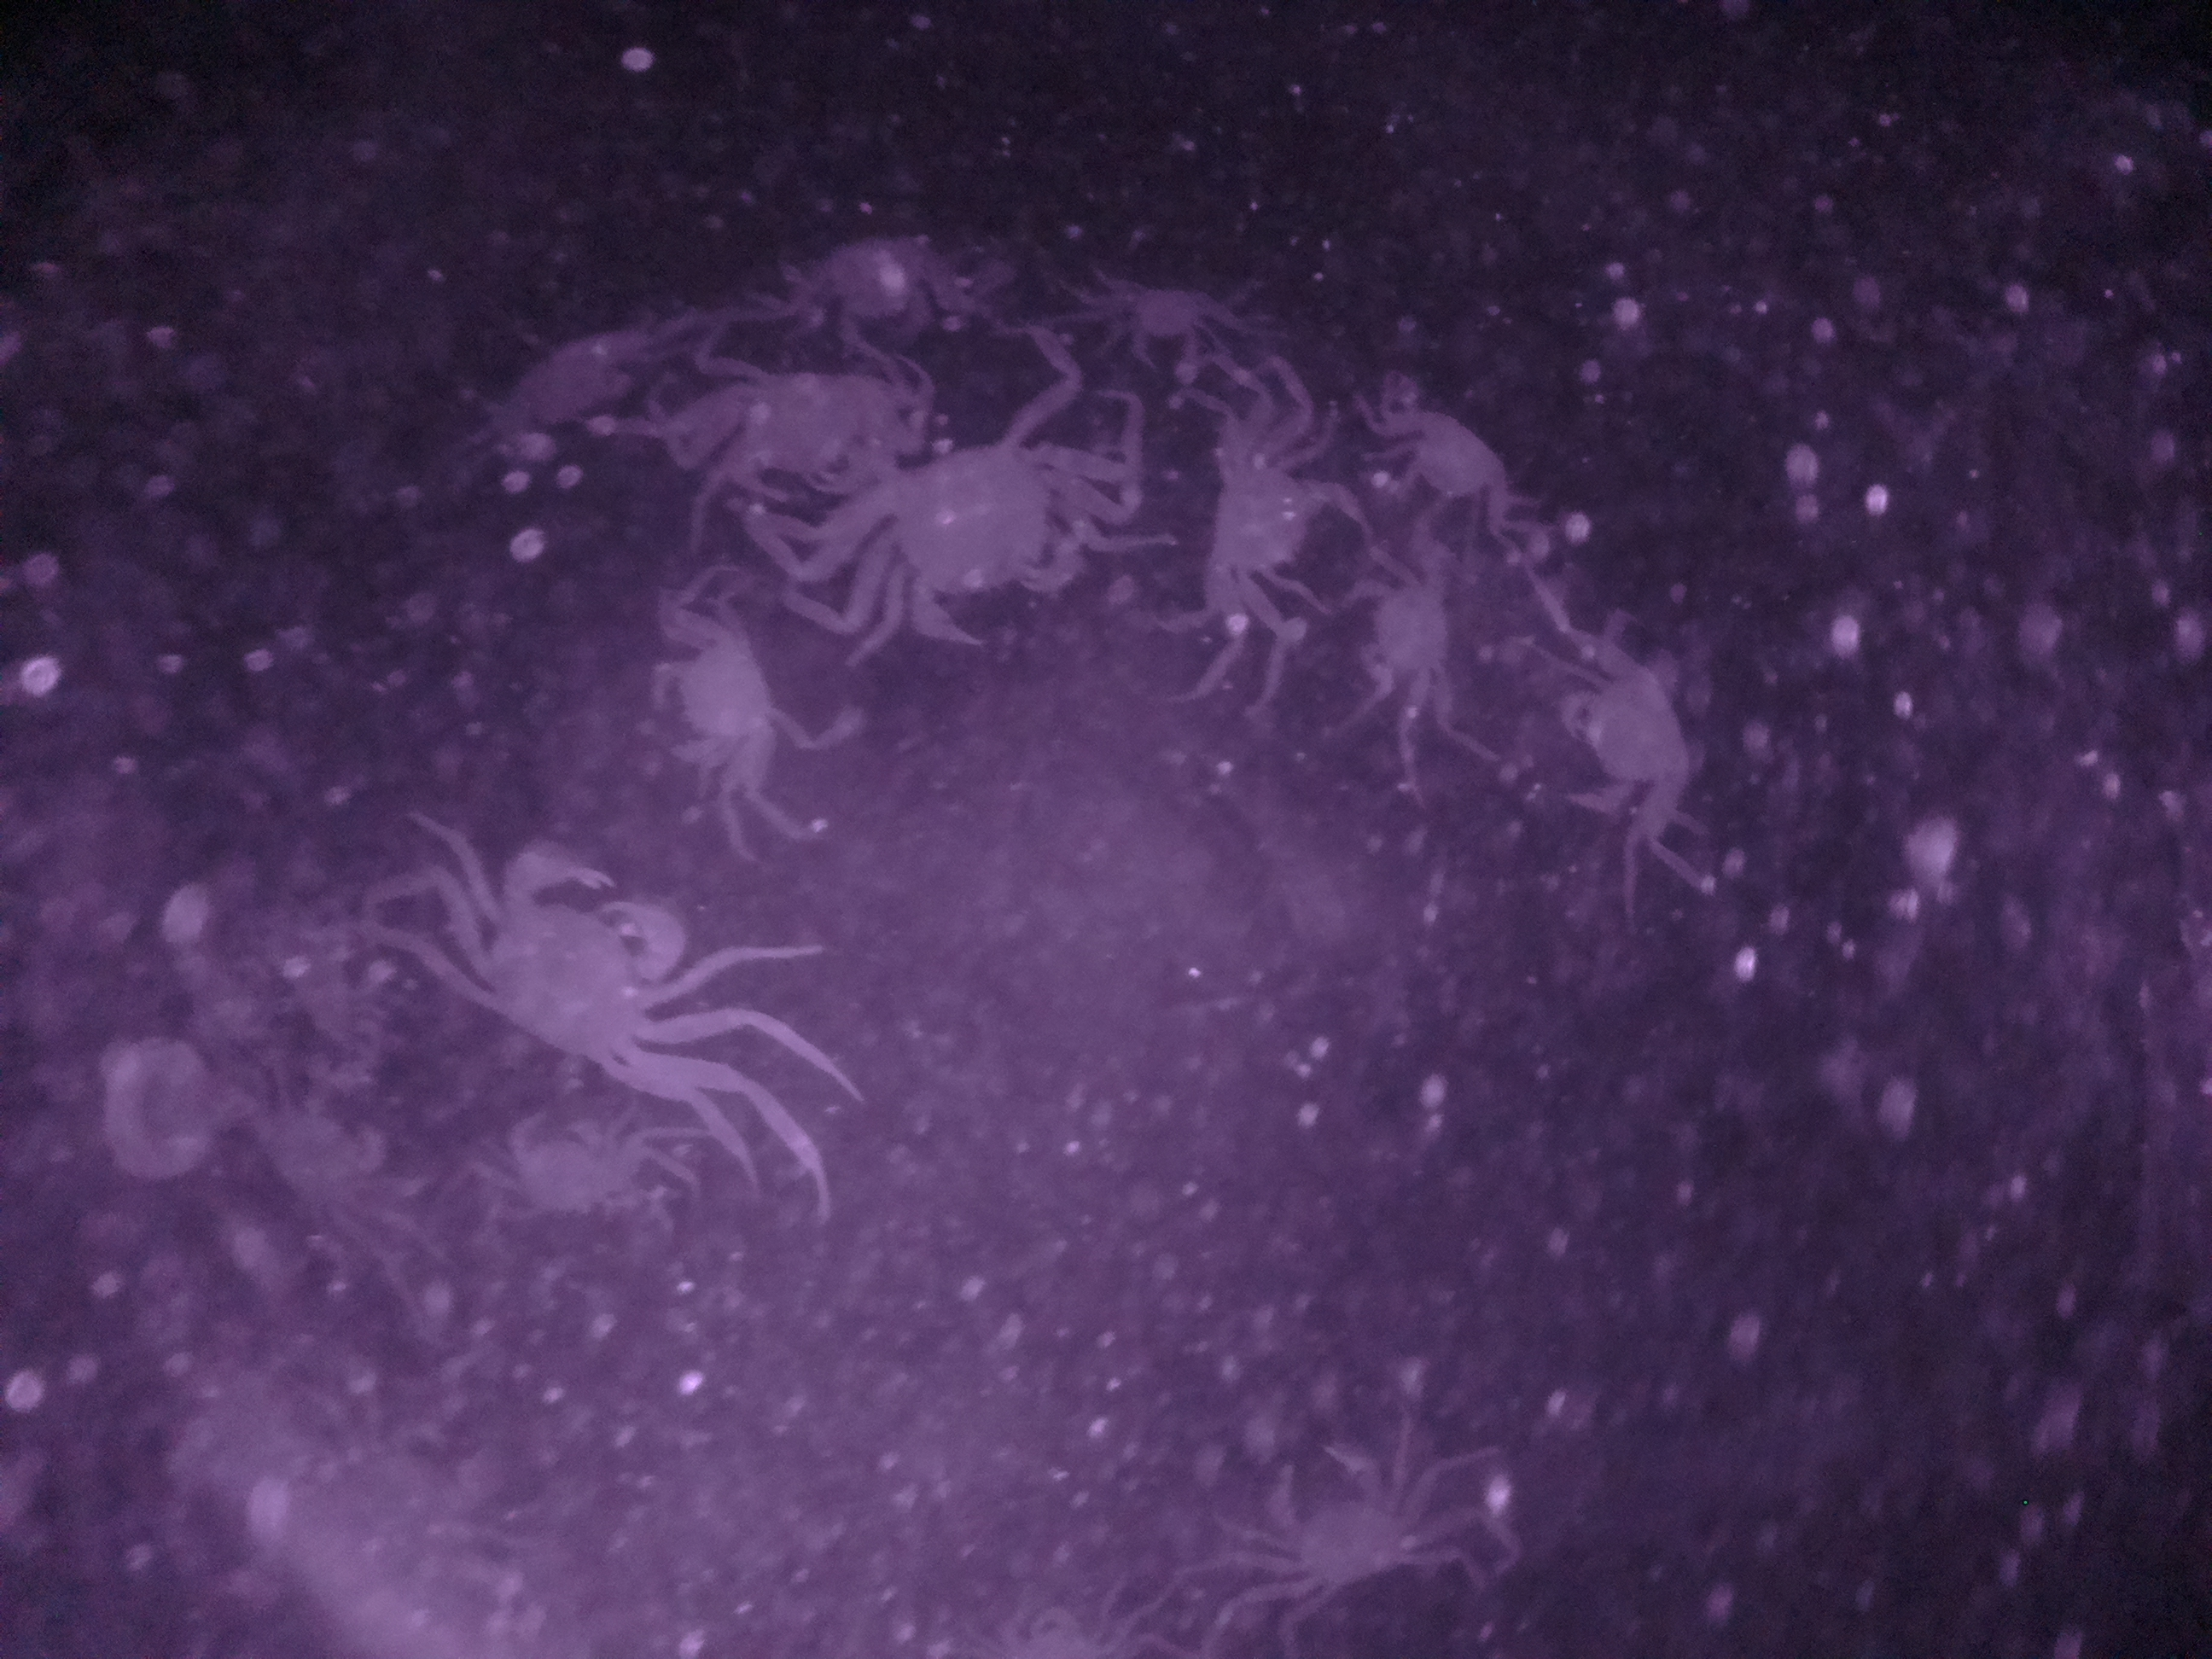Crab: (455, 823, 705, 1089), (864, 425, 1094, 664), (1541, 631, 1707, 842), (637, 598, 798, 791), (1188, 451, 1367, 617)
